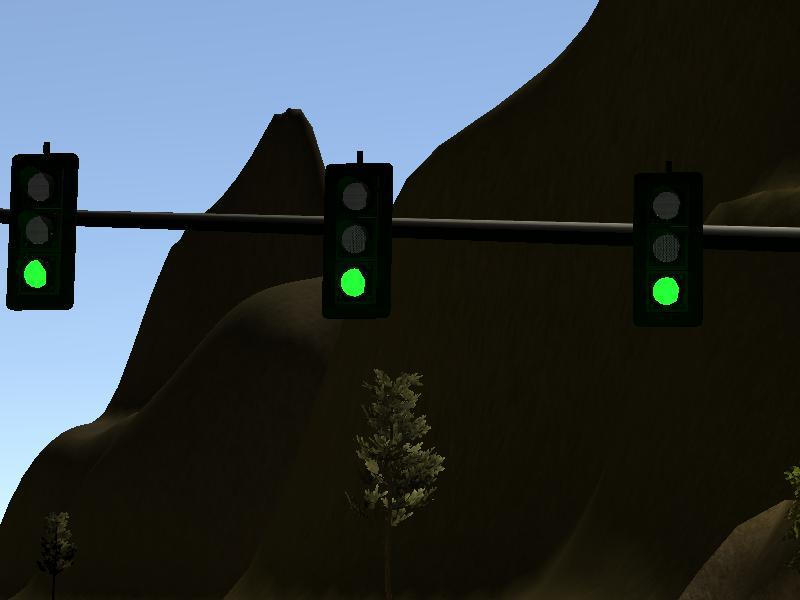Green: (10, 155, 71, 306), (635, 170, 693, 319), (327, 167, 386, 311)
